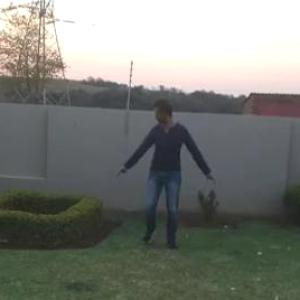land: (106, 94, 240, 282)
